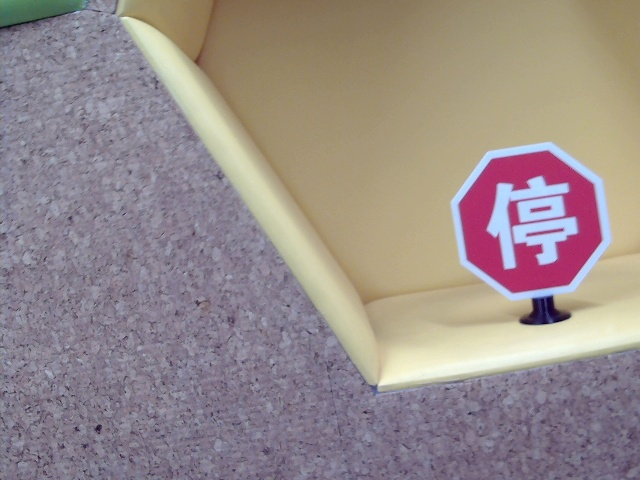stop: (477, 182, 584, 273)
